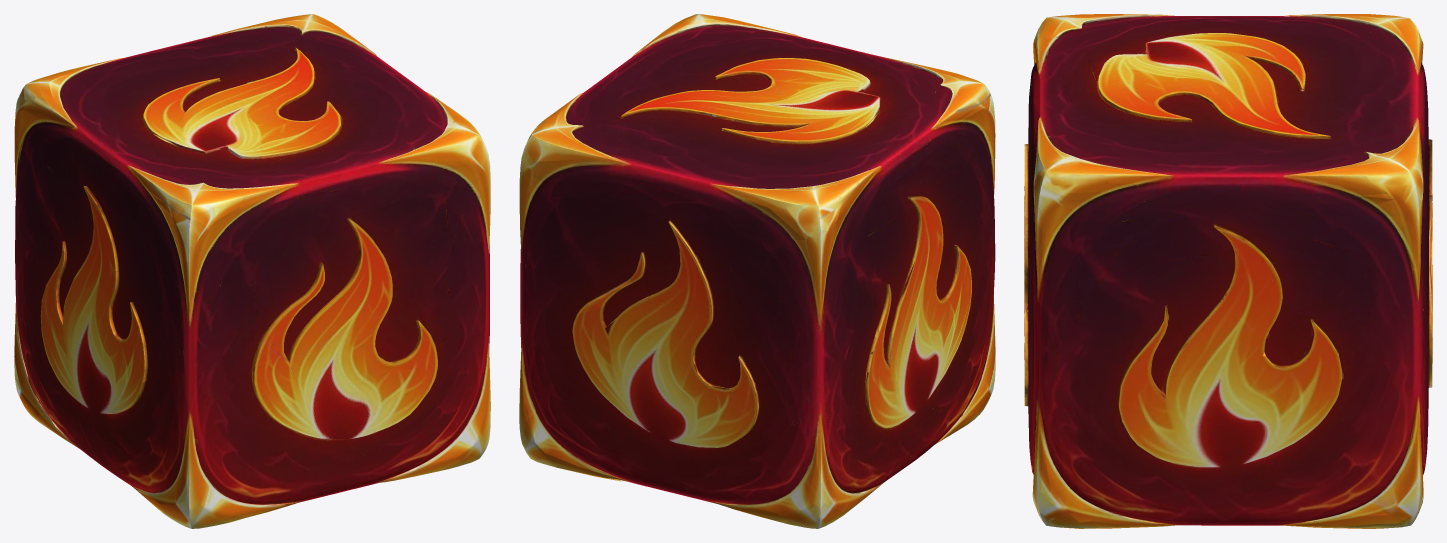
File: Dé Feu v.1.glb
The picture shows the model from 3 angles, left to right: view 1: azimuth 30°, elevation 25°; view 2: azimuth 150°, elevation 25°; view 3: azimuth 270°, elevation 25°; orthographic projection. The views are drawn at different scales.
Visible parts, largest first — view 1: output_unwrapped; view 2: output_unwrapped; view 3: output_unwrapped.
Part boxes in pixels (x1,y1,x2,y2): output_unwrapped: (14,14,490,528); output_unwrapped: (519,14,995,528); output_unwrapped: (1024,14,1432,528).
Size of the model in its own units: 1.89 by 1.87 by 1.89.
Materials: 1 (1 with a texture image).
